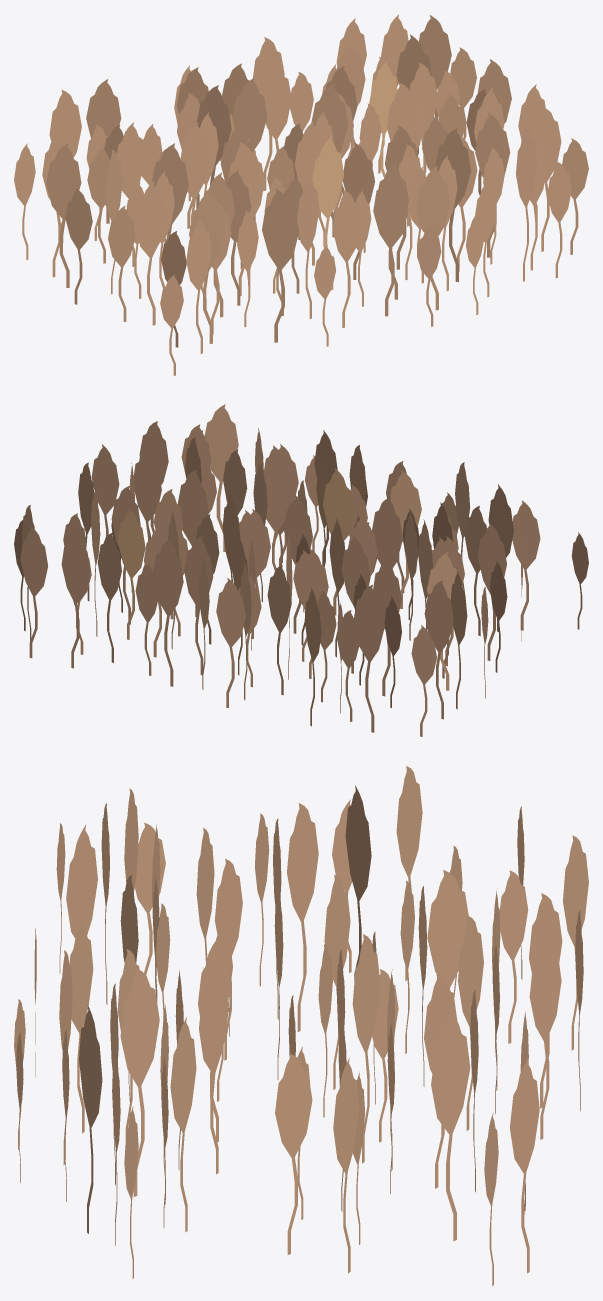
Rendered from ricefield01.fbx.
3 renders of one model, top to bottom at view 1: azimuth 30°, elevation 25°; view 2: azimuth 150°, elevation 25°; view 3: azimuth 270°, elevation 25°, orthographic. The views are drawn at different scales.
Visible parts, largest first — view 1: rice_field01; view 2: rice_field01; view 3: rice_field01.
Boxes of the visible parts, x1,y1,x2,y2 form: rice_field01: [14, 14, 588, 375]; rice_field01: [14, 404, 588, 736]; rice_field01: [14, 766, 588, 1286].
Size of the model in its own units: 307 by 225 by 98.71.
